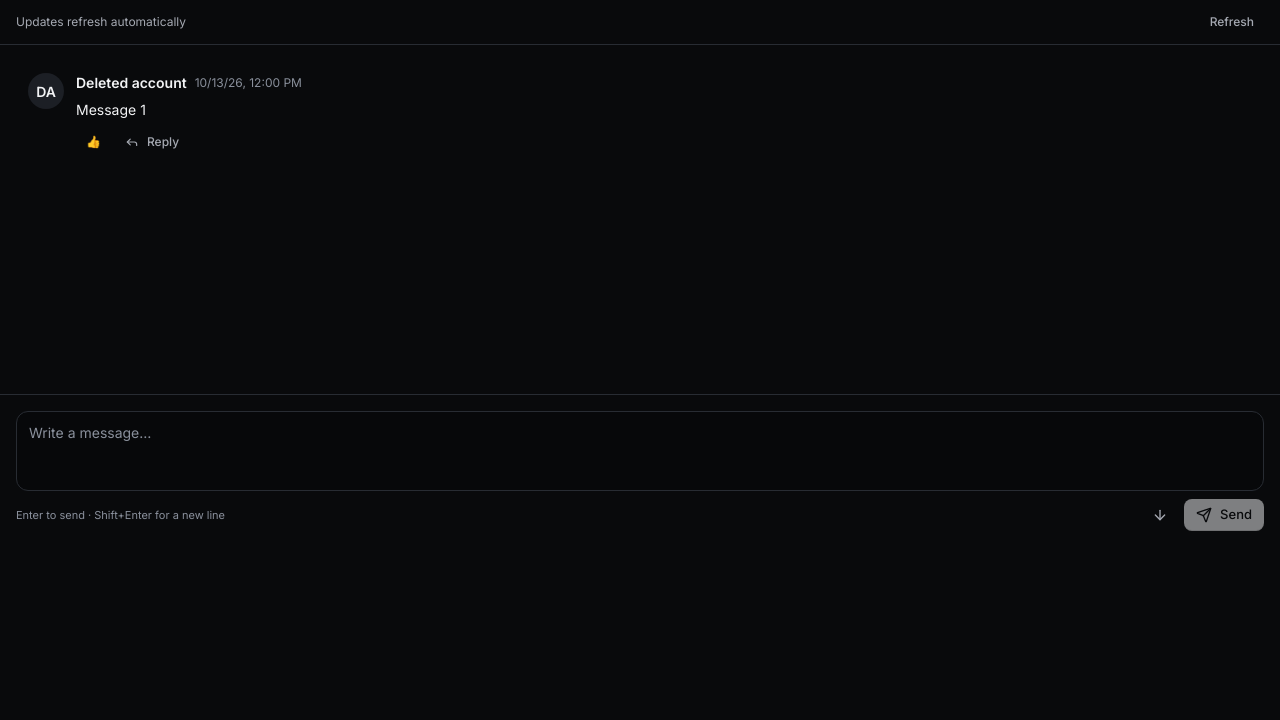
chat persistence and catch-up › reconciles edits and deletion when live delivery is disabled
Check: the text "Message 1" is shown, box [76,101,146,118]
Click the button "Refresh" at (1232, 22), box [1200,8,1264,36]
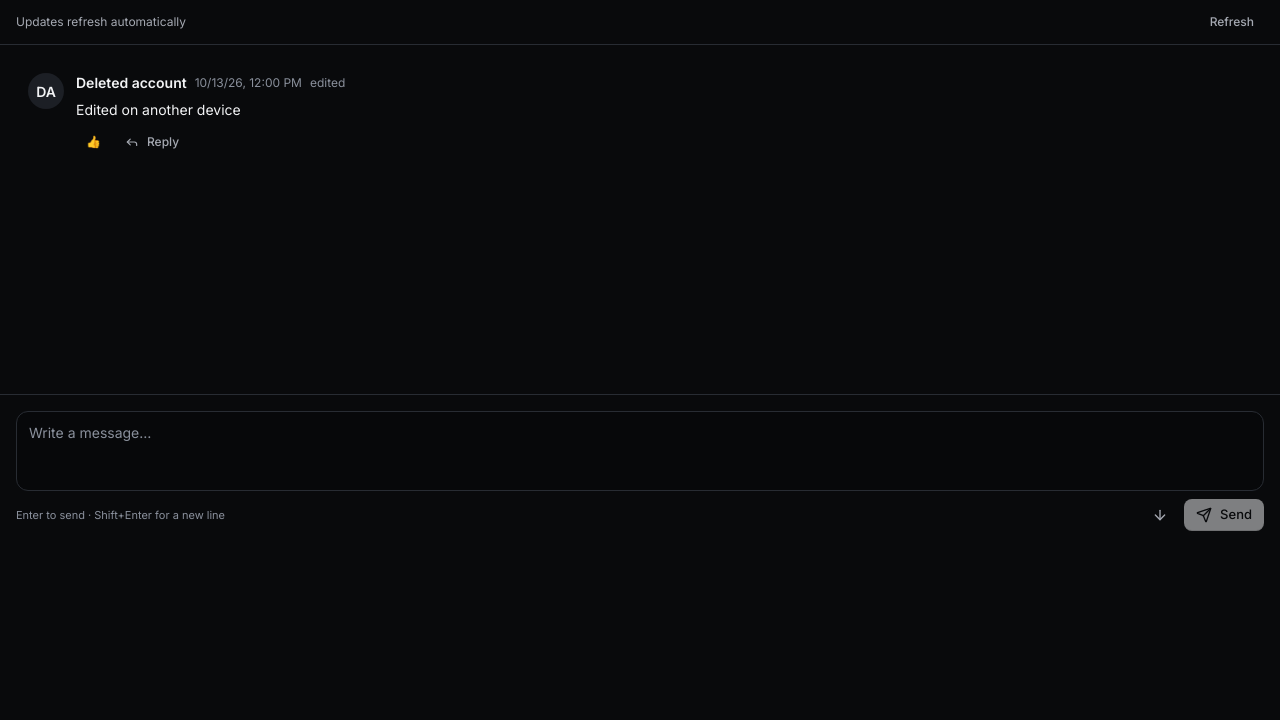
Check: the text "Edited on another device" is shown, box [76,101,241,118]
Check: the text "Message 1" is gone
Click the button "Refresh" at (1232, 22), box [1200,8,1264,36]
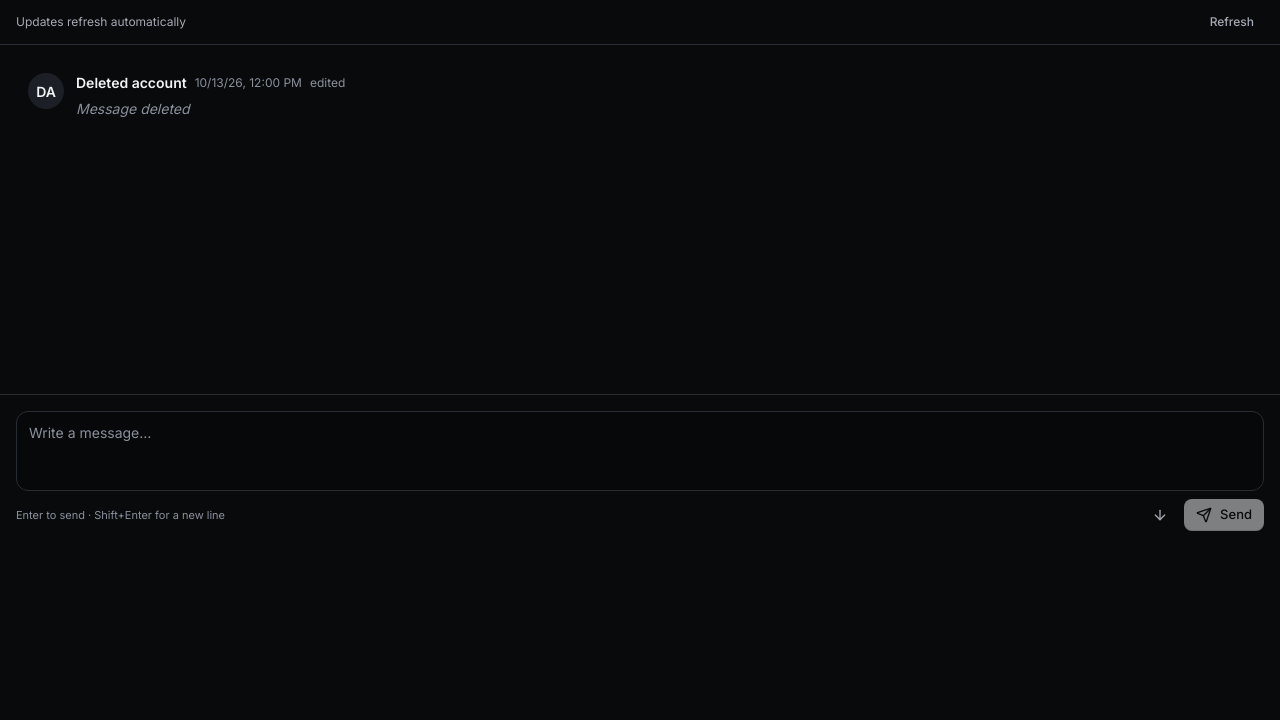
Check: the text "Message deleted" is shown, box [76,100,190,117]
Check: the text "Edited on another device" is gone
